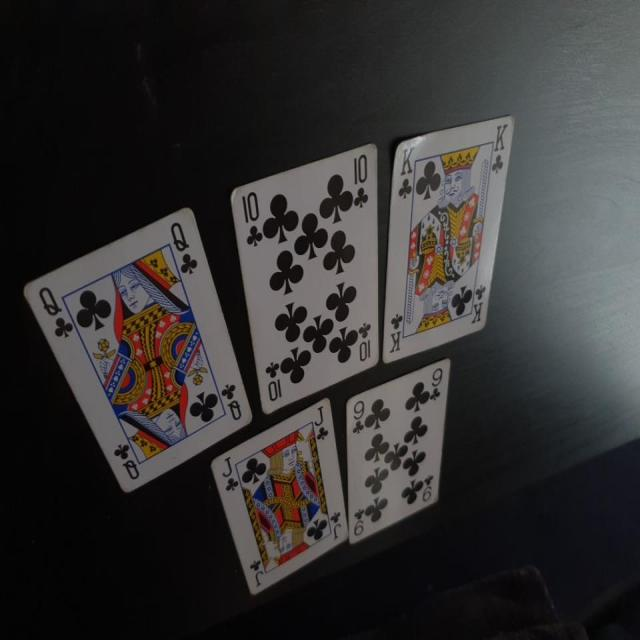10 Trefoils: (230, 138, 382, 413)
9 Trefoils: (344, 358, 451, 545)
J Trefoils: (210, 394, 348, 596)
K Trefoils: (381, 116, 517, 366)
Q Trefoils: (24, 205, 253, 492)
